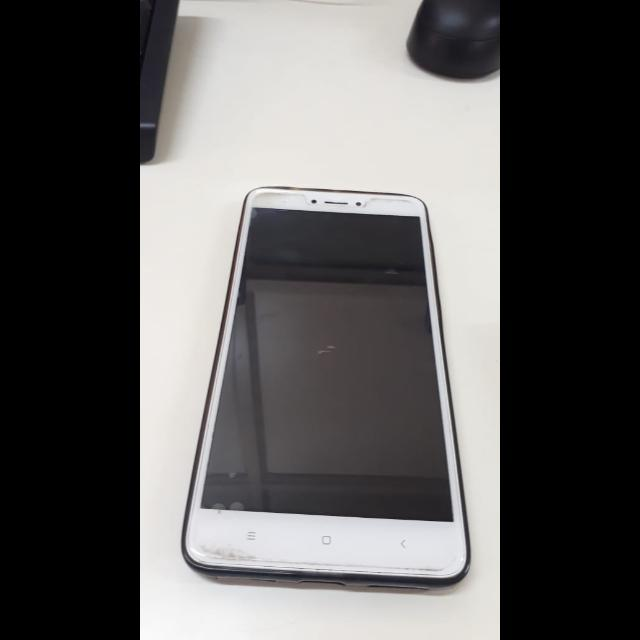Smartphone: (168, 171, 480, 599)
